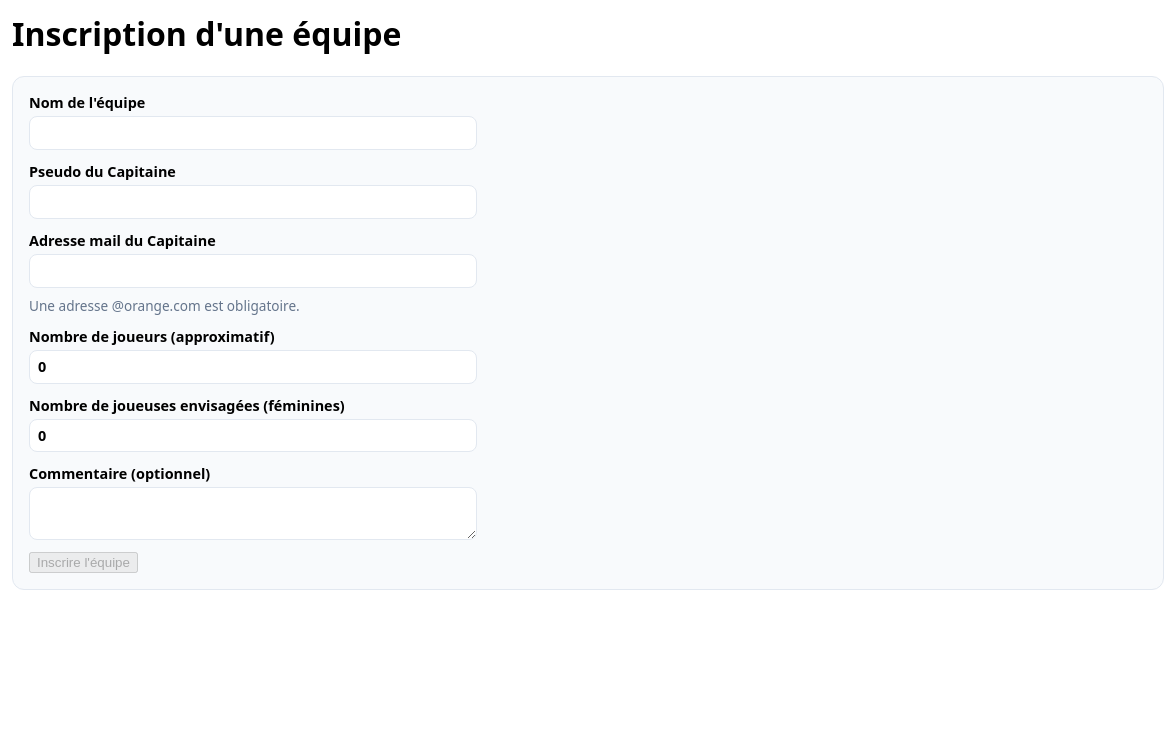
Test: InscriptionEquipePage › affiche la ligne "Commentaire" dans le récapitulatif quand un commentaire a été saisi
In the field labelled "Nom de l'équipe": (253, 133) [29,116,477,150], type "Logistique"
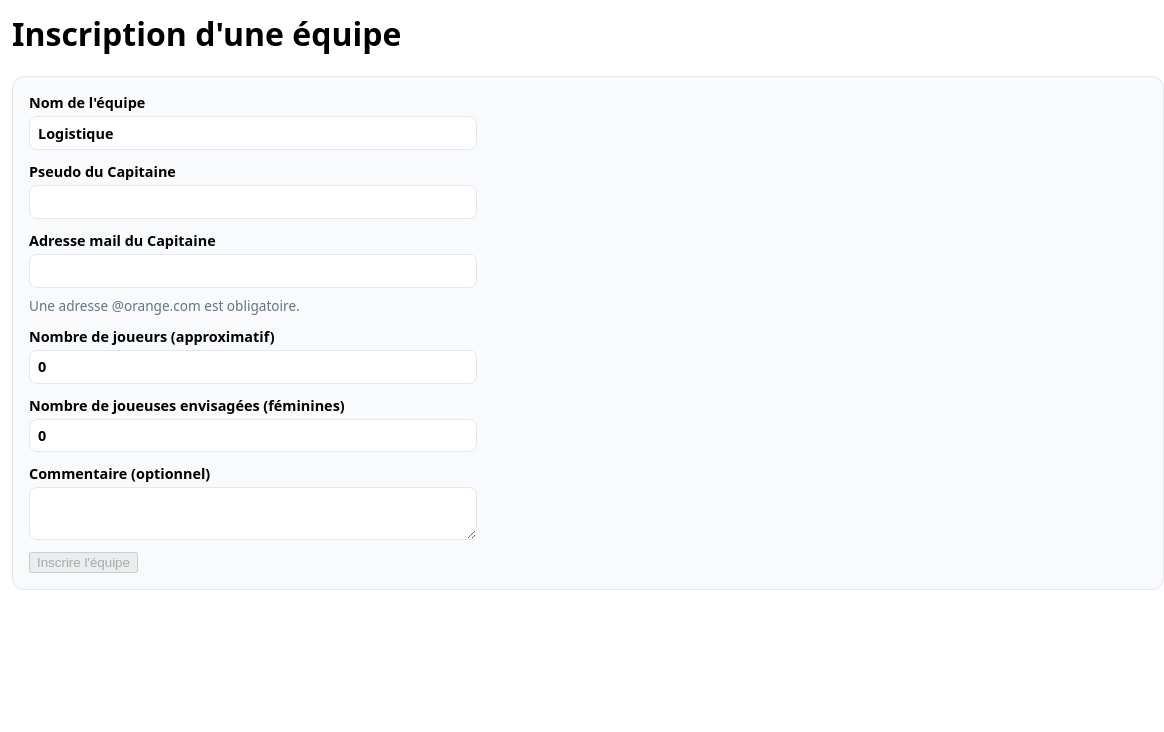
In the field labelled "Pseudo du Capitaine": (253, 202) [29,185,477,219], type "CapiLogistique"
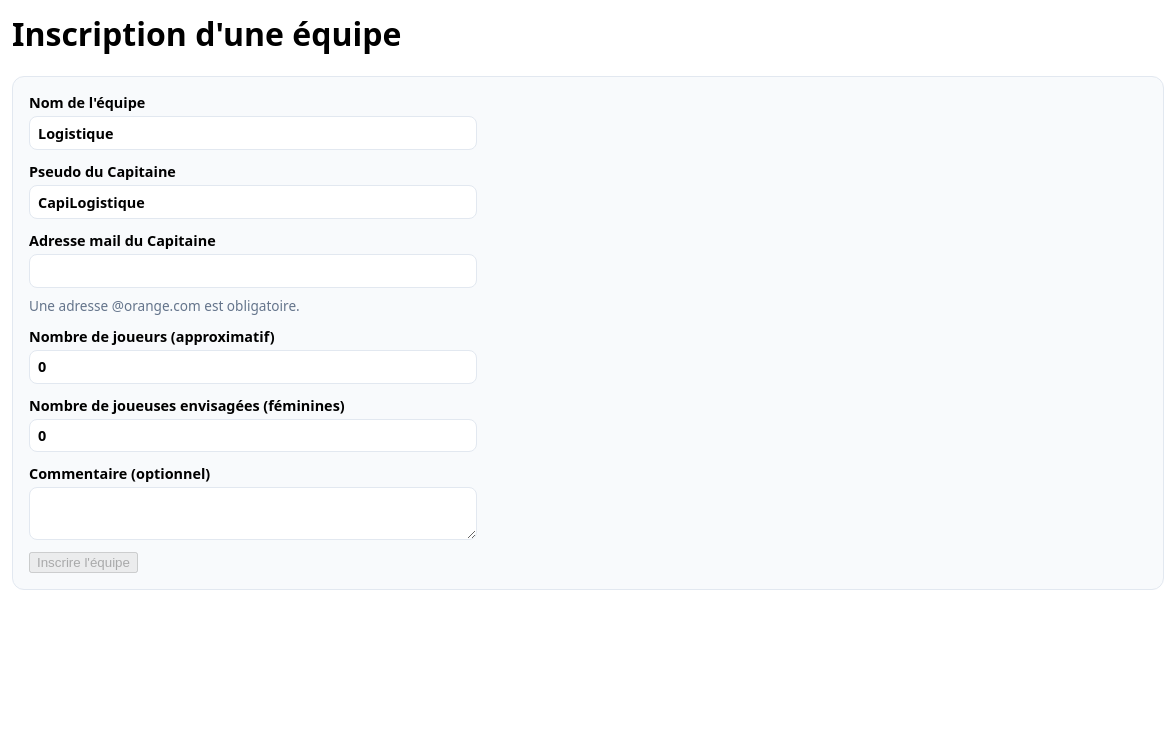
In the field labelled "Adresse mail du Capitaine": (253, 271) [29,254,477,288], type "capitaine@orange.com"
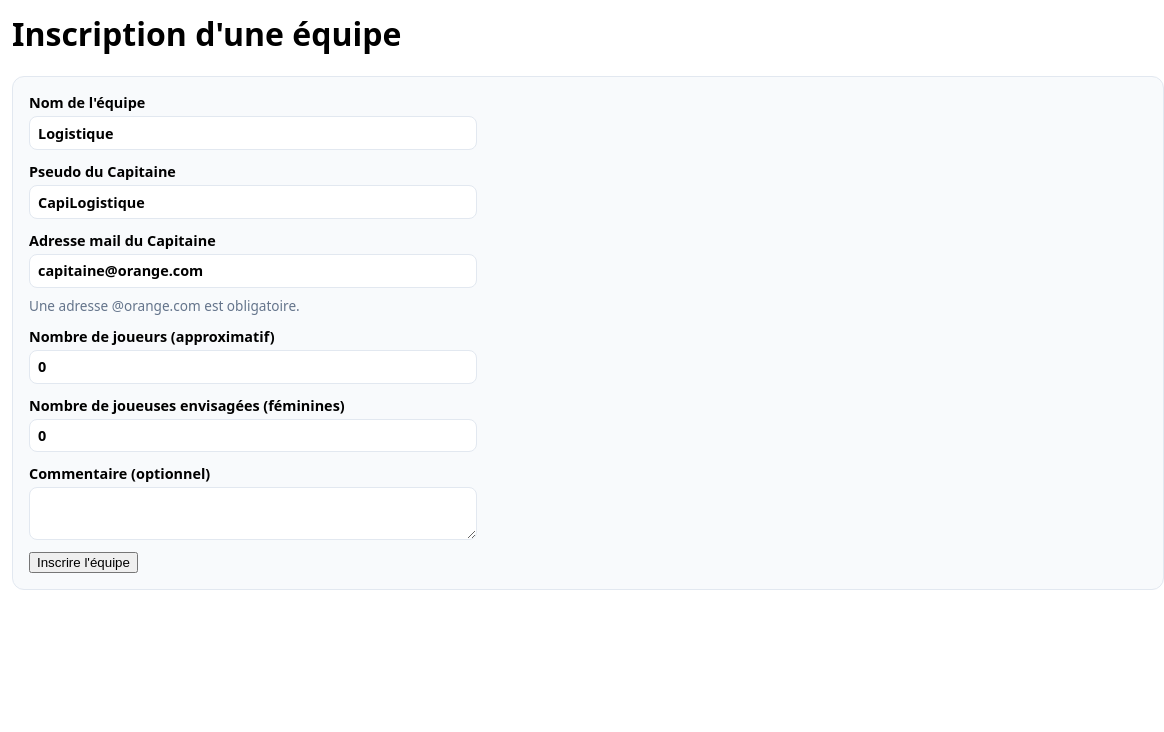
Click the button "Inscrire l'équipe": (83, 563) [29,552,138,573]
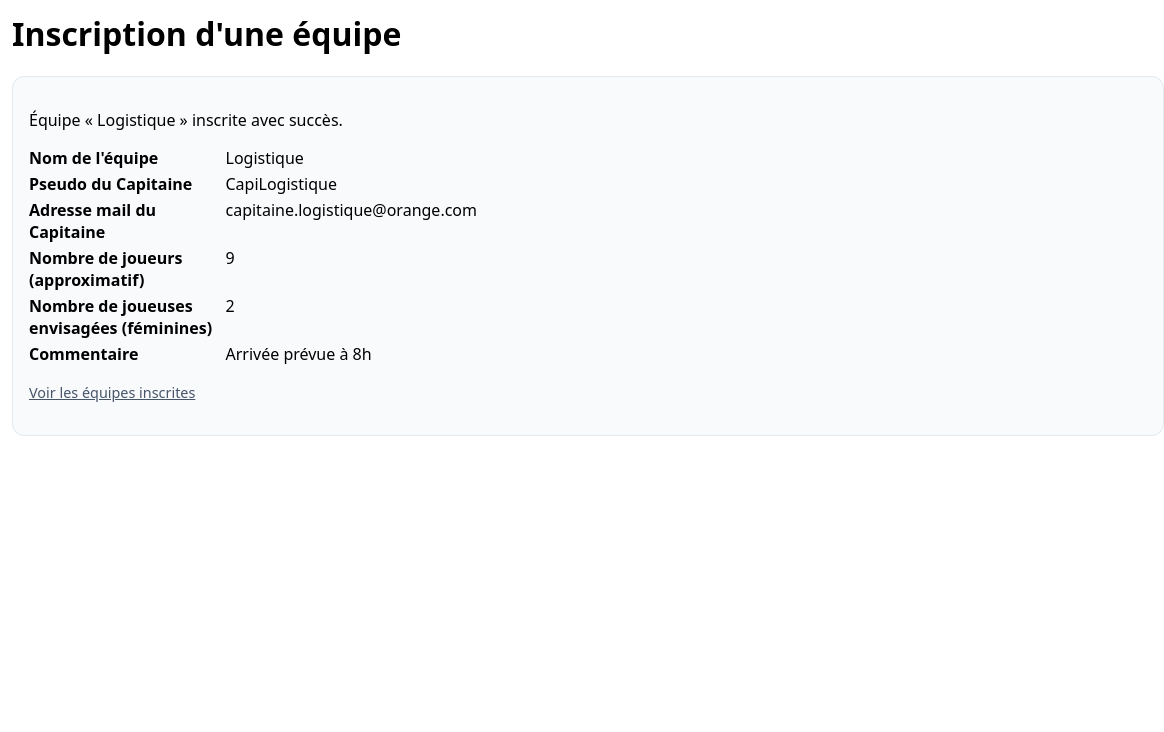
Now the text "Équipe « Logistique » inscrite avec succès." is shown, box [29,109,343,131]
Now the text "Arrivée prévue à 8h" is shown, box [226,343,372,365]
